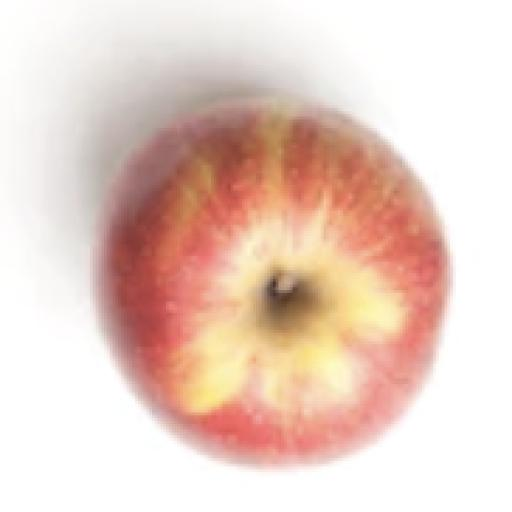apple: (98, 99, 449, 465)
